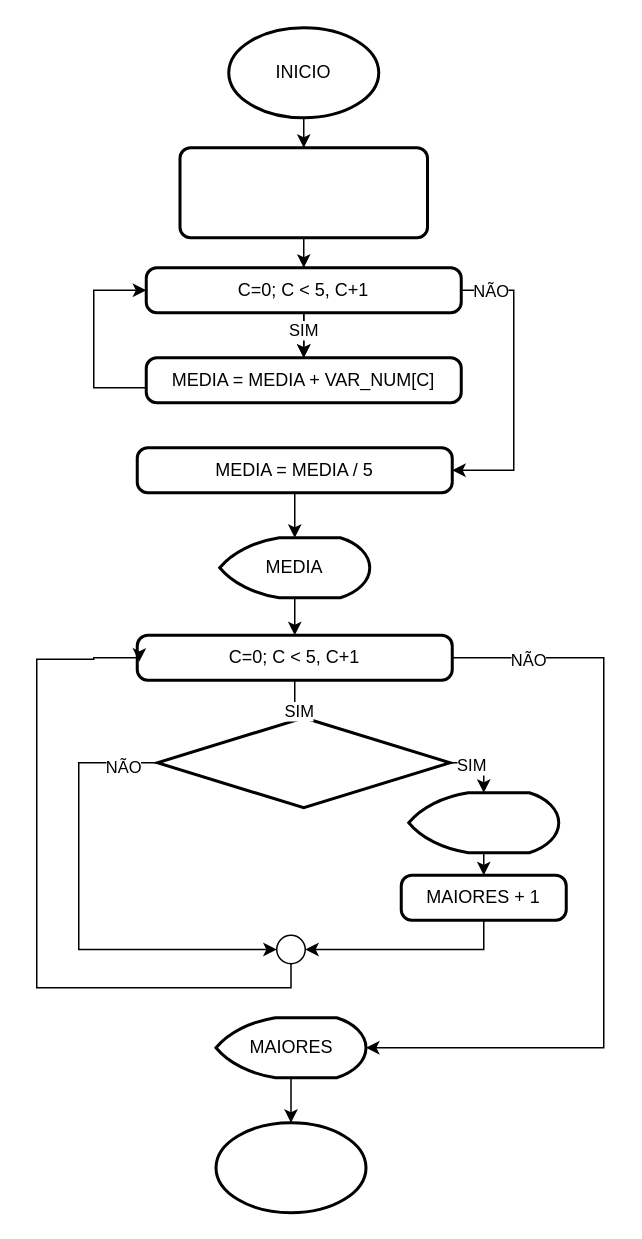
The diagram is 642 pixels wide and 1239 high, and some of its shapes have lost their labels. Here are the shapes that lost their labels. From the top down, the centre of each, then its label:
pixel 303 192: VAR_NUM = {5,40,27,13,45} MAIORES = 0 MEDIA = 0
pixel 303 762: VAR_NUM[C] > MEDIA
pixel 483 822: VAR_NUM[C]
pixel 290 1167: FIM
